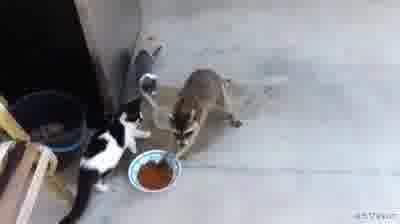raccoon: (169, 67, 243, 165)
